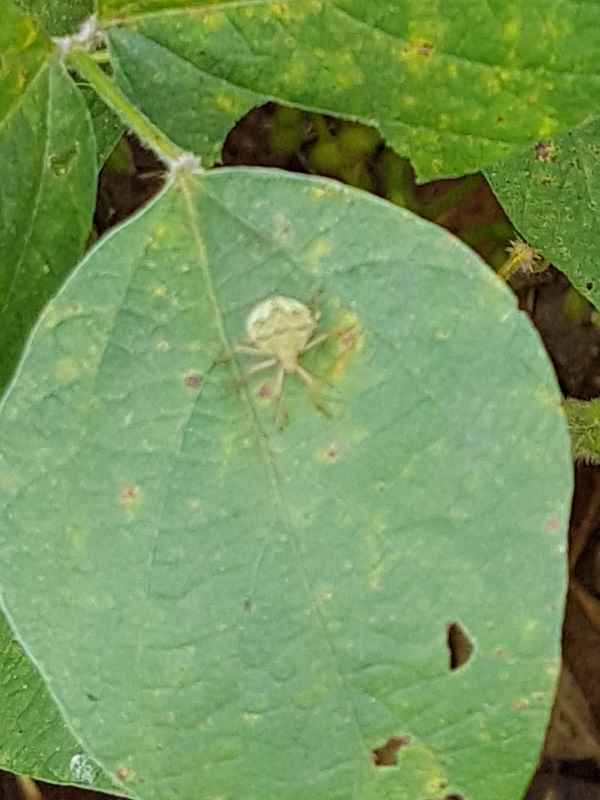Euschistus_heros_ninfa: (214, 270, 357, 417)
